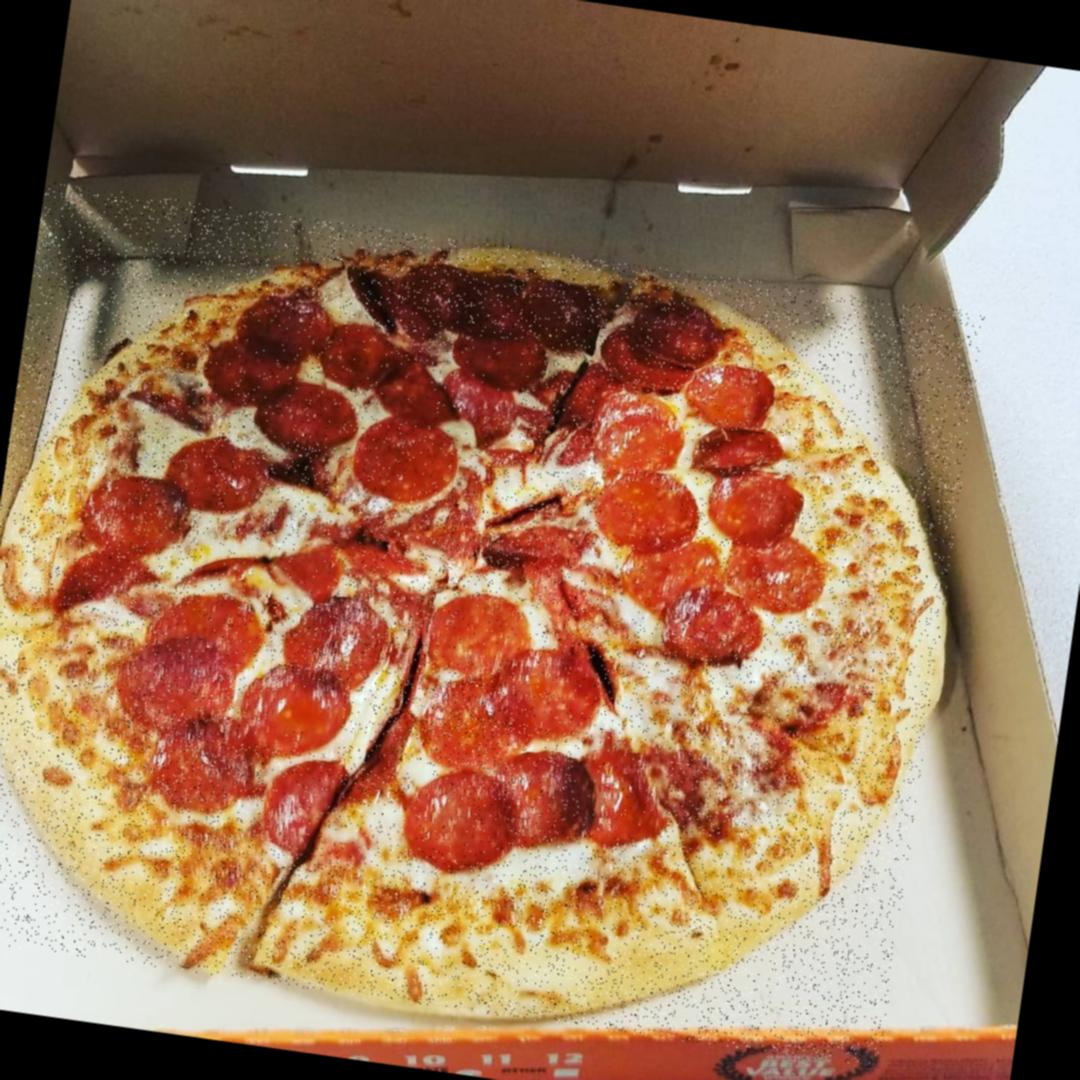Pepperoni: (394, 260, 609, 360), (400, 762, 518, 865), (192, 532, 342, 606), (599, 296, 717, 390), (350, 413, 468, 506), (567, 738, 672, 842), (420, 672, 524, 776), (148, 711, 256, 808), (239, 661, 347, 756), (614, 532, 722, 626), (283, 594, 389, 689), (114, 637, 230, 719), (47, 538, 157, 622), (165, 434, 278, 515), (494, 647, 598, 734), (482, 488, 593, 568), (258, 753, 342, 857), (427, 594, 539, 672), (488, 748, 586, 835), (591, 392, 694, 474), (598, 464, 696, 549), (666, 585, 774, 659), (250, 373, 357, 446), (80, 476, 188, 548), (154, 590, 262, 661), (706, 471, 804, 549), (231, 292, 336, 364), (434, 364, 520, 446), (725, 539, 823, 606), (206, 338, 307, 402), (450, 323, 548, 388), (329, 518, 438, 576), (376, 359, 462, 428), (690, 364, 780, 427), (123, 368, 213, 431), (324, 322, 402, 392), (690, 424, 795, 474)
Pizza: (0, 180, 985, 1068)
